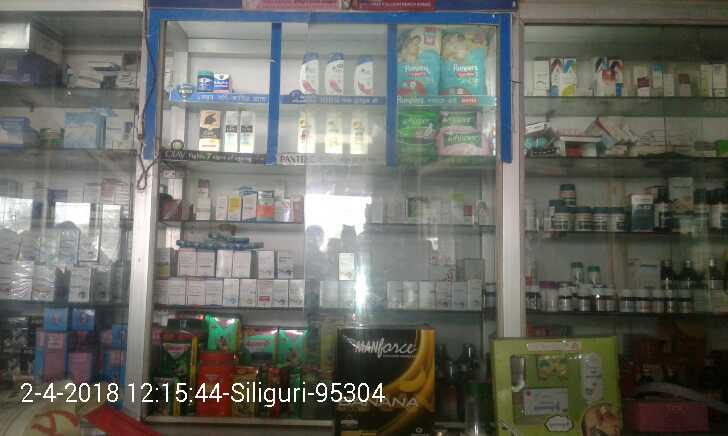vicks: (194, 69, 233, 95)
